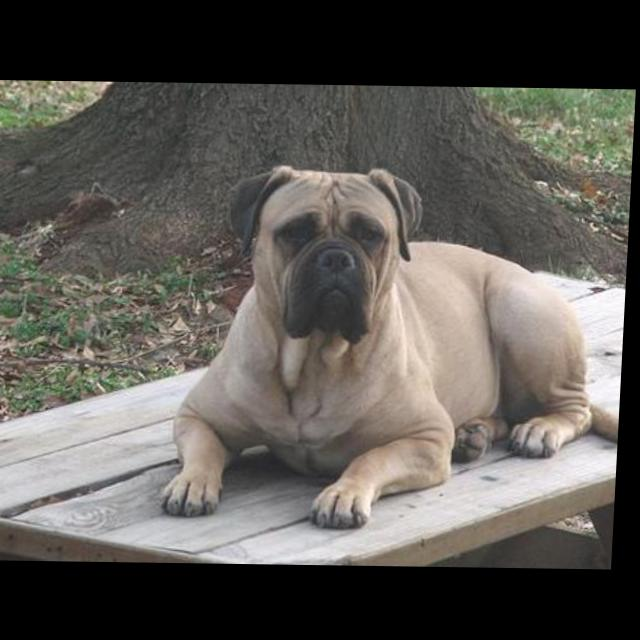bullmastiff: (166, 162, 635, 534)
